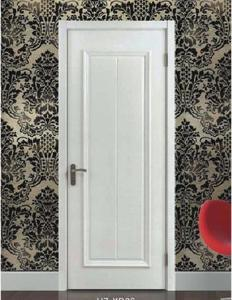door: (67, 28, 166, 286)
